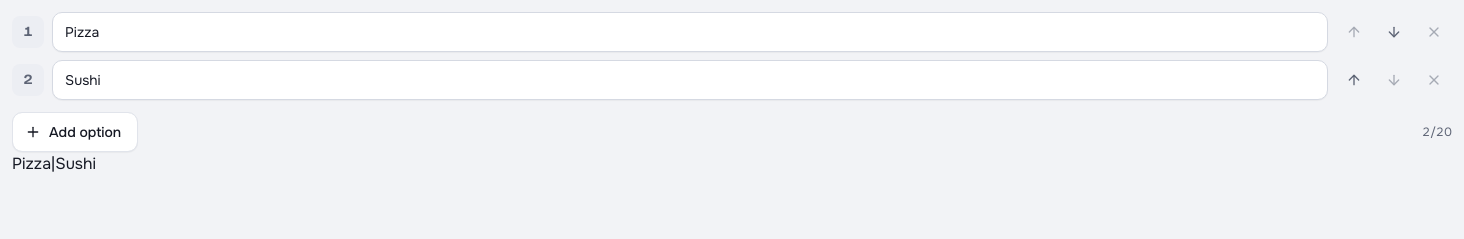
Test: OptionListEditor › edits, adds and removes options
The width and height of the screenshot is (1464, 239).
Type " bar" into the field named "Option 2" at point(690, 80), box [52, 60, 1328, 100]
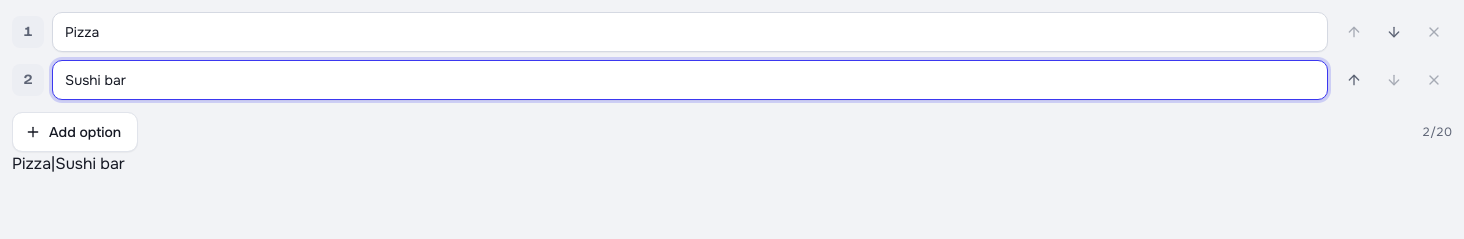
Click the button "Add option" at point(75, 132), box [12, 112, 138, 152]
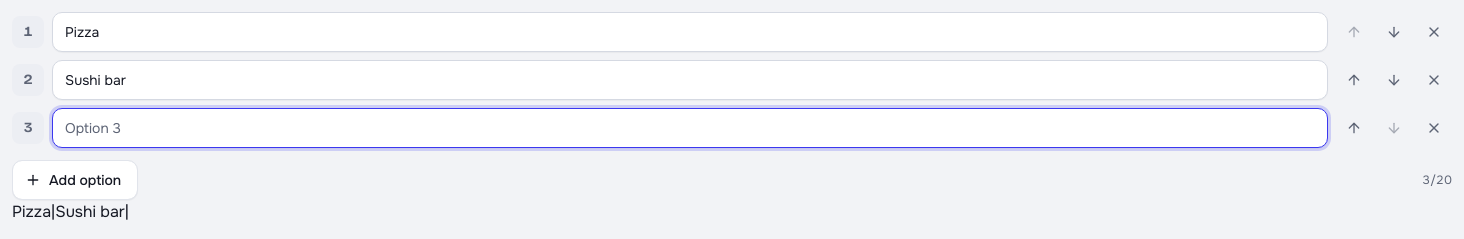
Type "Tacos" into the field labelled "Option 3" at point(690, 128), box [52, 108, 1328, 148]
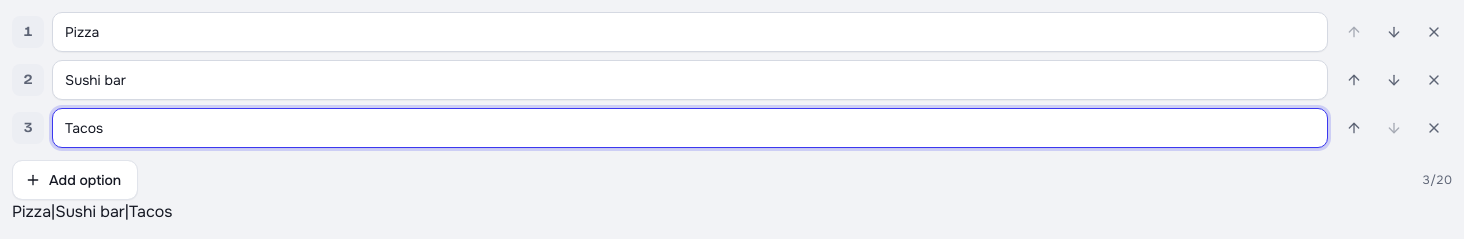
Result: the text with test id "labels" reads "Pizza|Sushi bar|Tacos" at [12, 201, 172, 222]
Click the button named "Remove option 1" at point(1434, 32), box [1416, 14, 1452, 50]
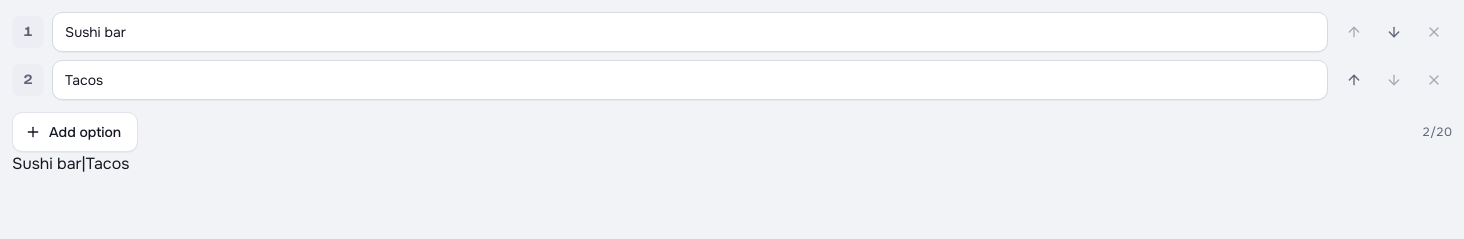
Result: the text with test id "labels" reads "Sushi bar|Tacos" at [12, 153, 129, 174]
